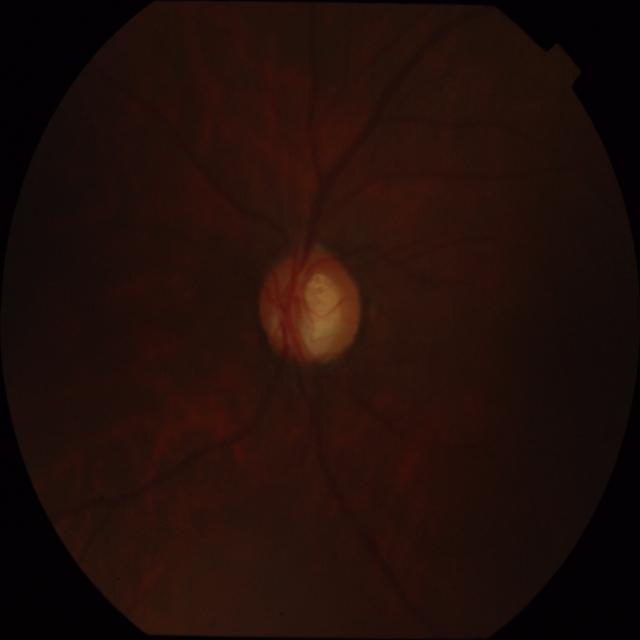OC: (294, 273, 342, 354)
OD: (259, 247, 361, 365)
